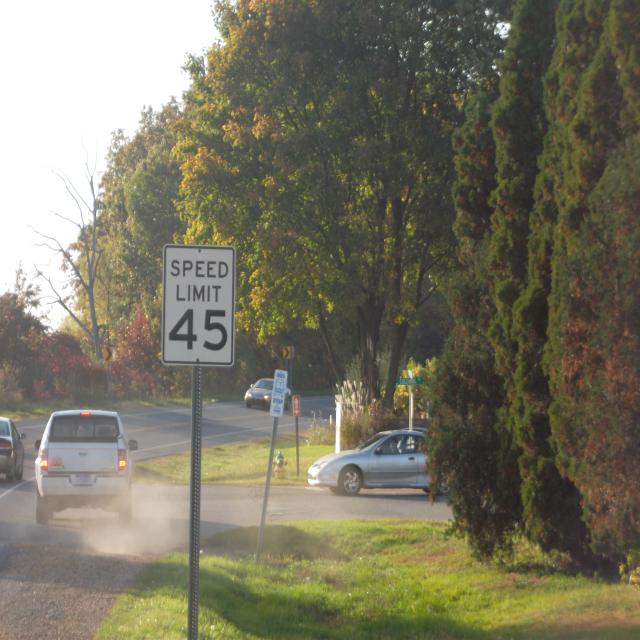regulatory: (158, 242, 236, 369), (159, 241, 237, 367)
